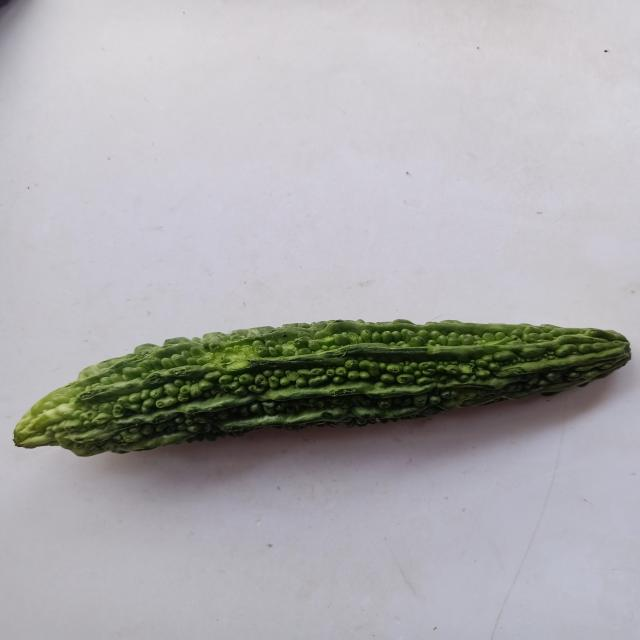Bitter Gourd: (9, 304, 640, 494)
